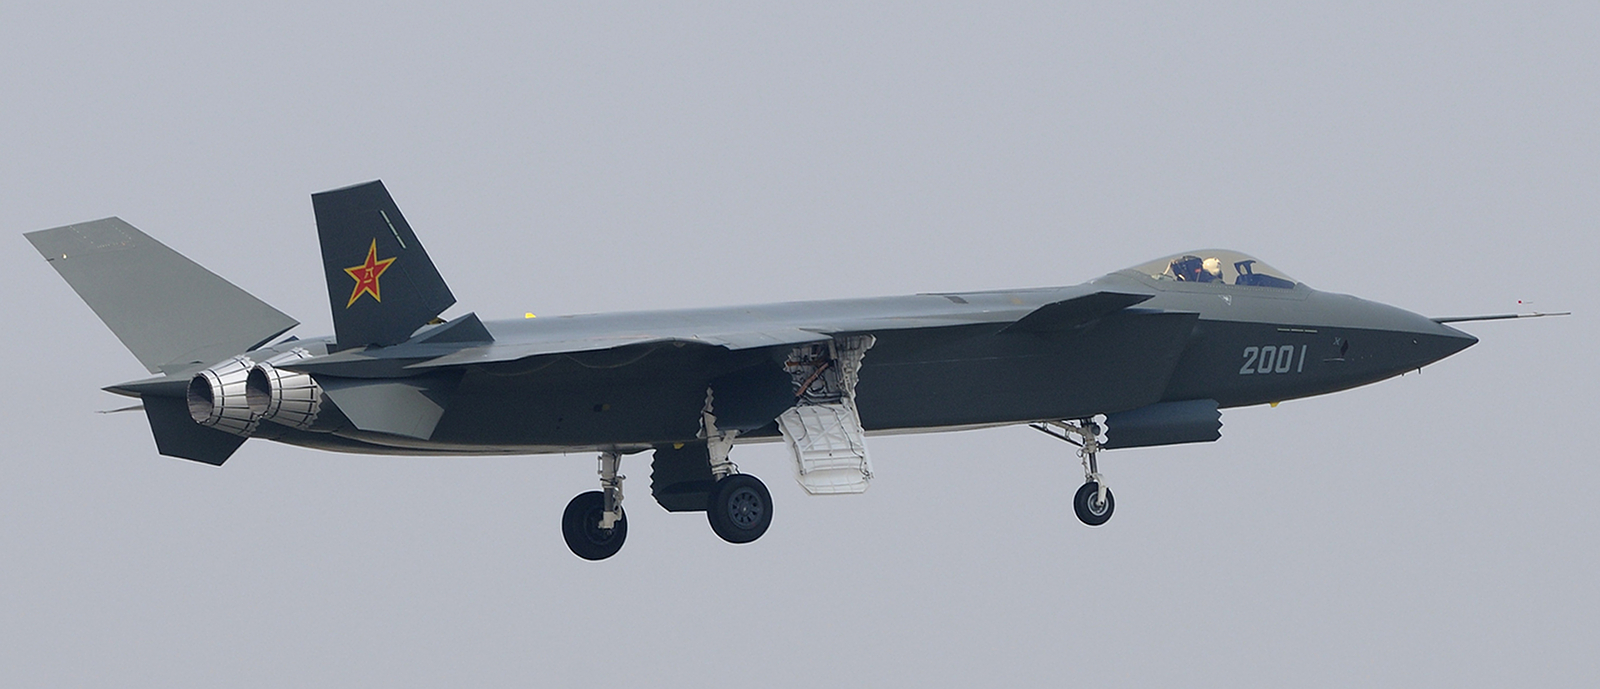J20: (21, 179, 1572, 561)
